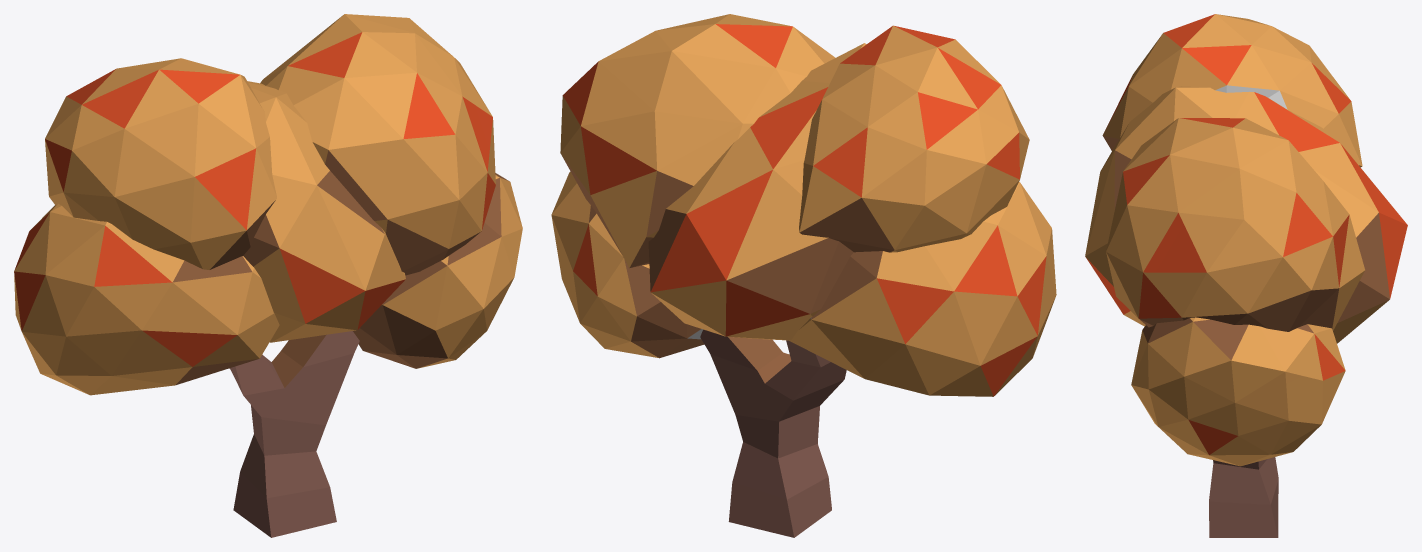
The model's file is arbol 1 otoño.fbx.
3 renders of one model, left to right at view 1: azimuth 30°, elevation 25°; view 2: azimuth 150°, elevation 25°; view 3: azimuth 270°, elevation 25°, orthographic. The views are drawn at different scales.
Visible parts, largest first — view 1: OakTree1; view 2: OakTree1; view 3: OakTree1.
Boxes of the visible parts, <box> form: OakTree1: <box>14,14,522,537</box>; OakTree1: <box>551,14,1056,537</box>; OakTree1: <box>1085,14,1407,537</box>.
Bounding box in the file's own units: 23567 × 23161 × 15168.
